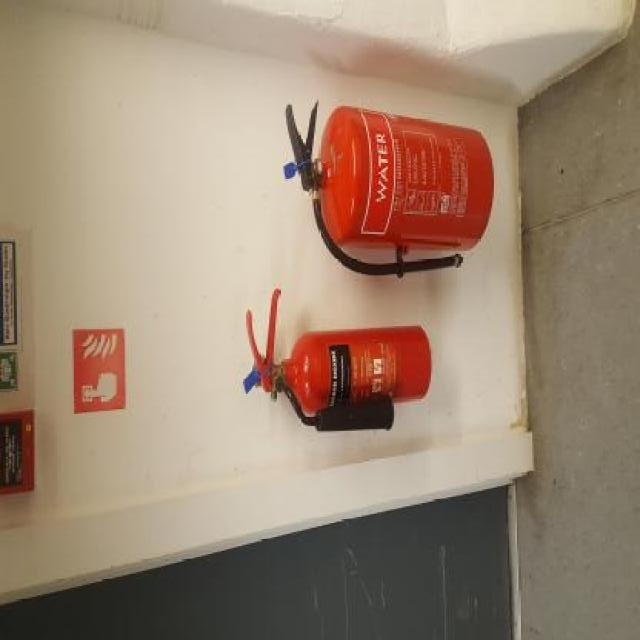fire extinguisher: (285, 76, 517, 279), (245, 288, 430, 434)
